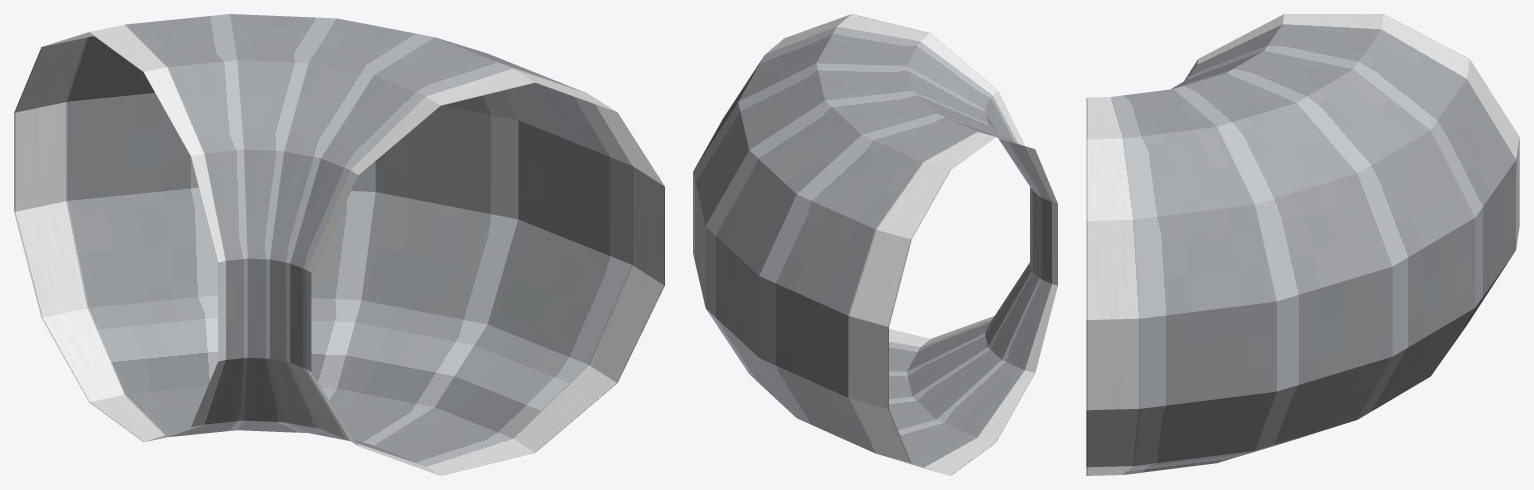
The model's file is connection_24.obj.
The picture shows the model from 3 angles, left to right: view 1: azimuth 30°, elevation 25°; view 2: azimuth 150°, elevation 25°; view 3: azimuth 270°, elevation 25°; orthographic projection. The views are drawn at different scales.
Bounding box in the file's own units: 0.875 × 0.75 × 0.875.
